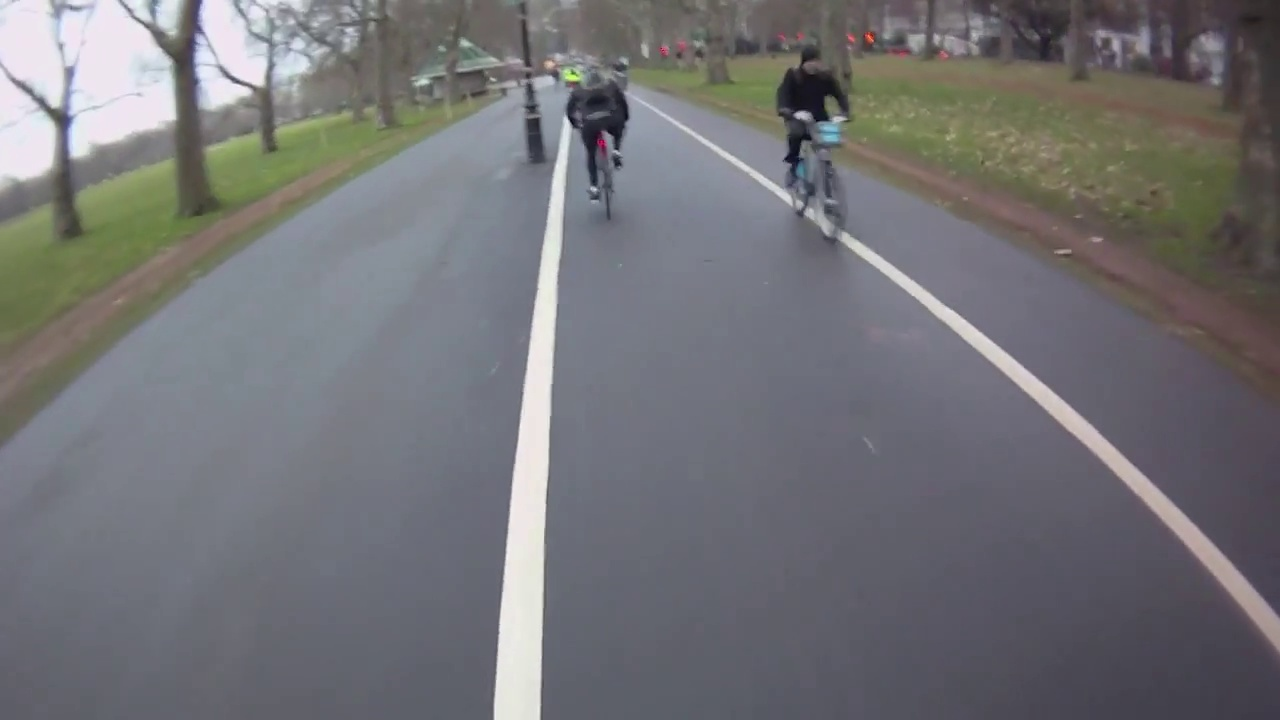cyclist_back: (562, 52, 633, 219)
cyclist_front: (773, 39, 856, 250)
